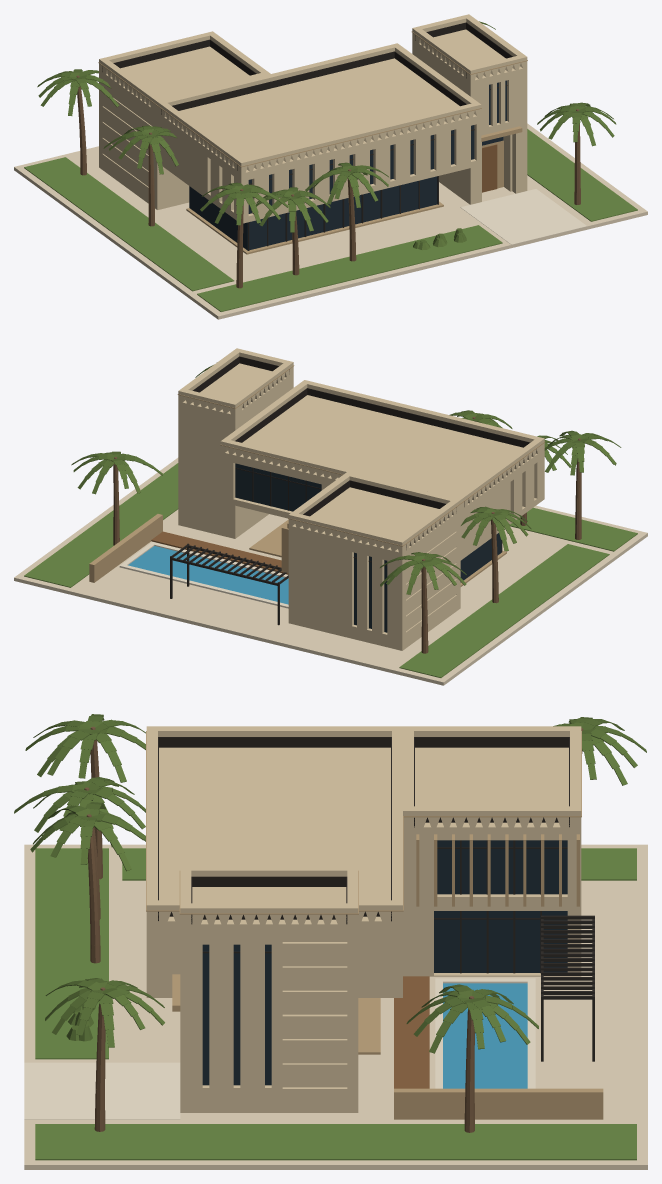
The model's file is salmani.glb.
The picture shows the model from 3 angles, top to bottom: view 1: azimuth 30°, elevation 25°; view 2: azimuth 150°, elevation 25°; view 3: azimuth 270°, elevation 25°; orthographic projection. The views are drawn at different scales.
Visible parts, largest first — view 1: Salmani_stone, Salmani_lawn, Salmani_pave, Salmani_leaf, Salmani_glass, Salmani_shadow, Salmani_coping, Salmani_trunk, Salmani_stone_dark, Salmani_frame, Salmani_wood; view 2: Salmani_stone, Salmani_pave, Salmani_lawn, Salmani_leaf, Salmani_glass, Salmani_shadow, Salmani_stone_dark, Salmani_water, Salmani_frame, Salmani_trunk, Salmani_coping, Salmani_wood; view 3: Salmani_stone, Salmani_pave, Salmani_lawn, Salmani_leaf, Salmani_glass, Salmani_stone_dark, Salmani_coping, Salmani_shadow, Salmani_frame, Salmani_water, Salmani_trunk, Salmani_wood.
Part boxes in pixels (bbox=[...]): Salmani_stone: bbox=[99, 14, 527, 223]; Salmani_lawn: bbox=[24, 129, 637, 311]; Salmani_pave: bbox=[14, 123, 647, 319]; Salmani_leaf: bbox=[37, 21, 616, 250]; Salmani_glass: bbox=[189, 80, 506, 250]; Salmani_shadow: bbox=[102, 22, 512, 170]; Salmani_coping: bbox=[460, 189, 586, 244]; Salmani_trunk: bbox=[76, 75, 580, 288]; Salmani_stone_dark: bbox=[98, 31, 527, 254]; Salmani_frame: bbox=[248, 85, 507, 250]; Salmani_wood: bbox=[482, 144, 497, 192]; Salmani_stone: bbox=[178, 348, 544, 650]; Salmani_pave: bbox=[14, 457, 647, 685]; Salmani_lawn: bbox=[24, 463, 637, 677]; Salmani_leaf: bbox=[71, 365, 621, 594]; Salmani_glass: bbox=[235, 463, 501, 632]; Salmani_shadow: bbox=[192, 356, 530, 549]; Salmani_stone_dark: bbox=[89, 365, 544, 586]; Salmani_water: bbox=[128, 546, 288, 604]; Salmani_frame: bbox=[170, 467, 502, 625]; Salmani_trunk: bbox=[113, 416, 581, 653]; Salmani_coping: bbox=[119, 542, 288, 608]; Salmani_wood: bbox=[151, 531, 288, 574]; Salmani_stone: bbox=[146, 726, 581, 1112]; Salmani_pave: bbox=[24, 844, 647, 1169]; Salmani_lawn: bbox=[35, 848, 636, 1160]; Salmani_leaf: bbox=[14, 714, 646, 1053]; Salmani_glass: bbox=[202, 840, 567, 1085]; Salmani_stone_dark: bbox=[146, 731, 603, 1119]; Salmani_coping: bbox=[24, 978, 535, 1119]; Salmani_shadow: bbox=[158, 737, 569, 924]; Salmani_frame: bbox=[202, 840, 594, 1061]; Salmani_water: bbox=[443, 983, 527, 1088]; Salmani_trunk: bbox=[84, 726, 583, 1132]; Salmani_wood: bbox=[394, 976, 429, 1088].
Bounding box in the file's own units: 34 × 10.4 × 28.46.
